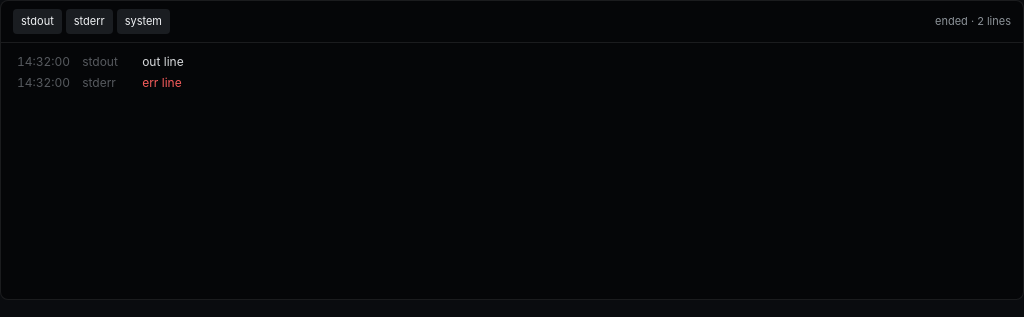
Test: RunConsole › filters by stream
Step 1. Click the button "stderr" → (89, 21), box [66,9,113,34]
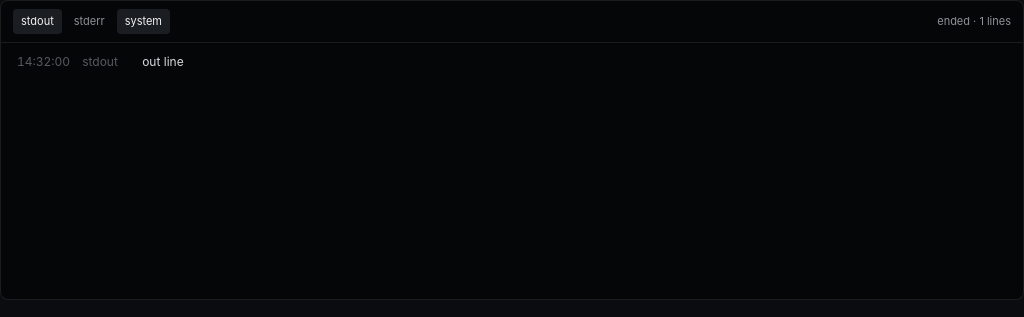
Check: the text "out line" is shown, box [142,54,184,68]
Check: the text "err line" is gone
